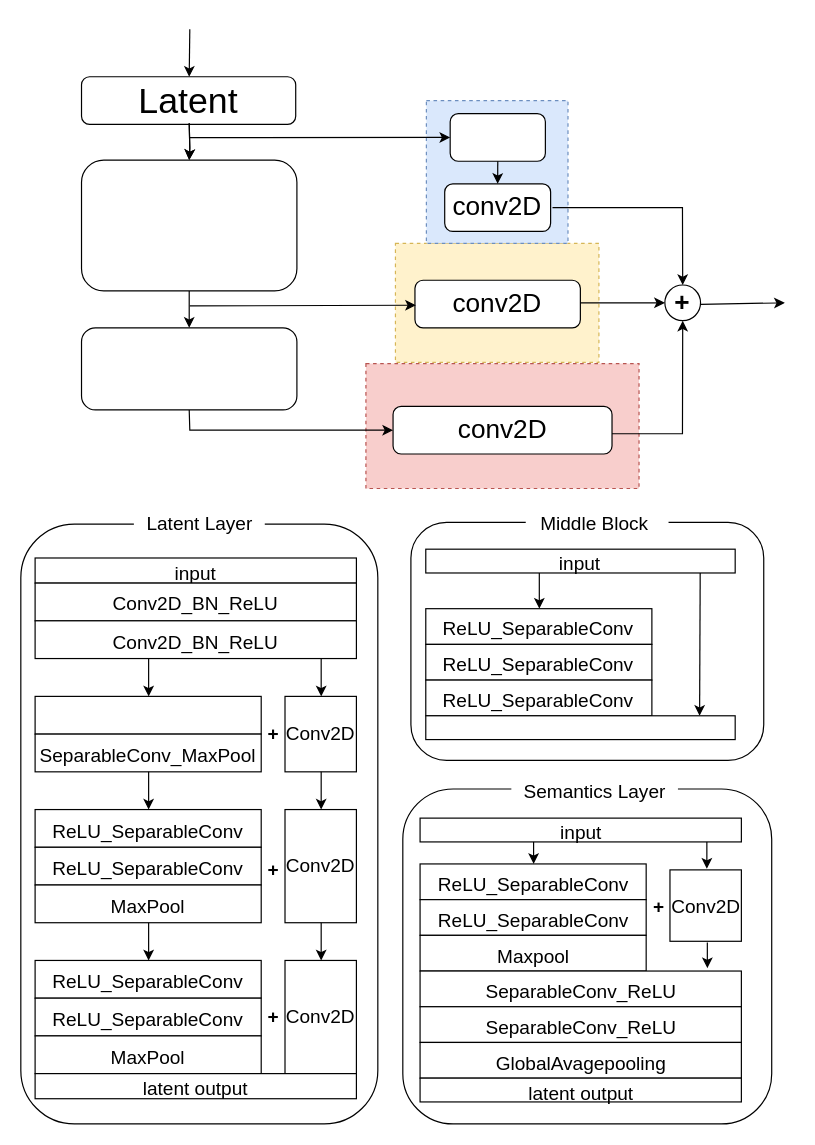
Image size: 815x1145. Some labels were removed from this diagram. Here are the shapes that lost their labels. From the top down, the centre of each, then its label:
At point (497, 136): "LTL".
At point (188, 225): "Middle (Middle Block x8)".
At point (188, 368): "Semantics".
At point (147, 714): "SeparableConv_ReLU".
At point (580, 727): "middle block output".
